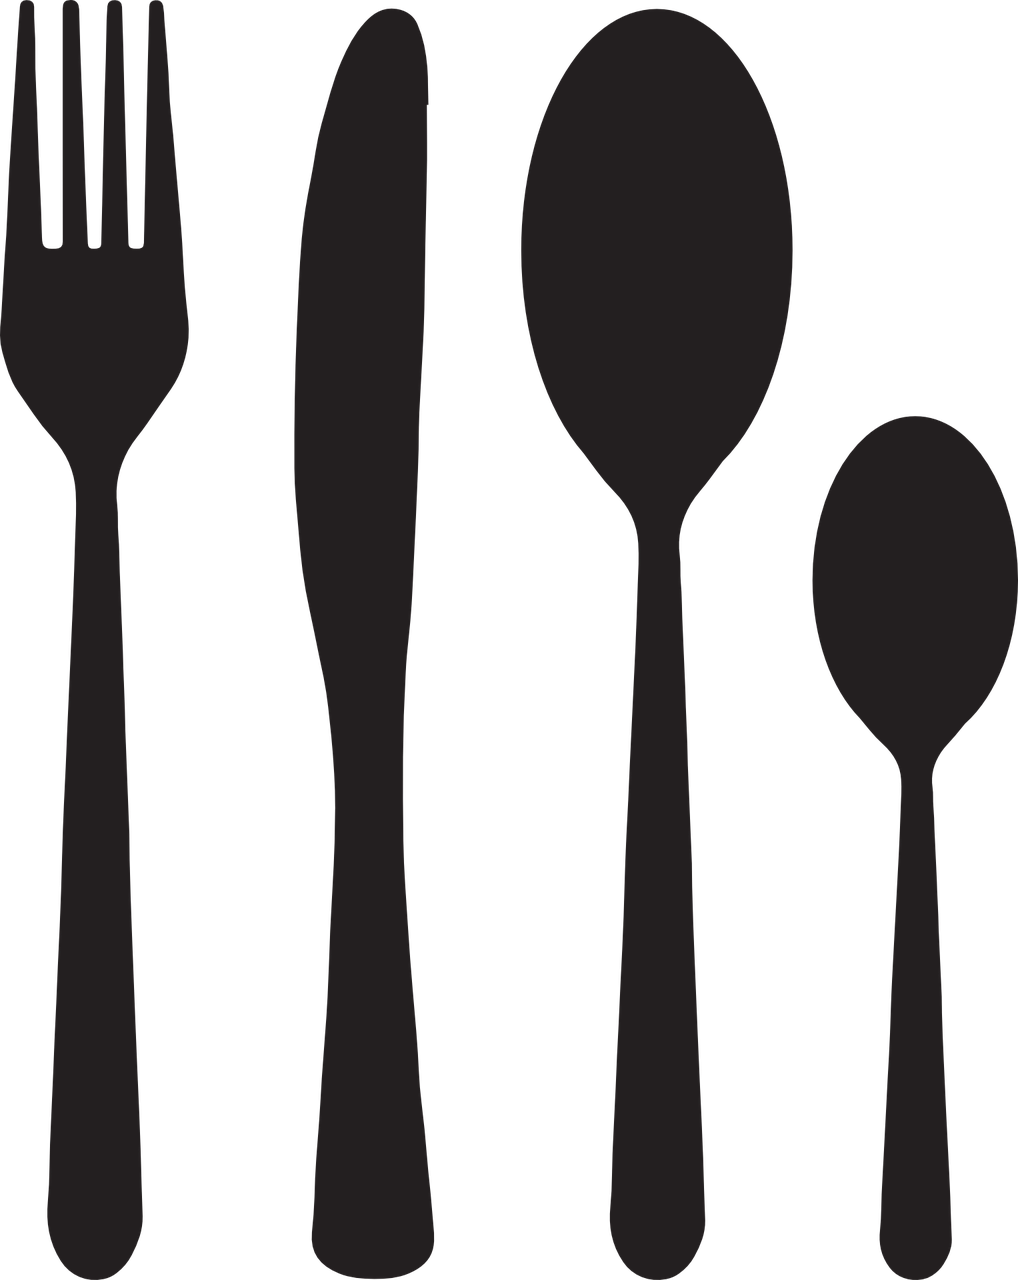knife: (282, 0, 437, 1274)
